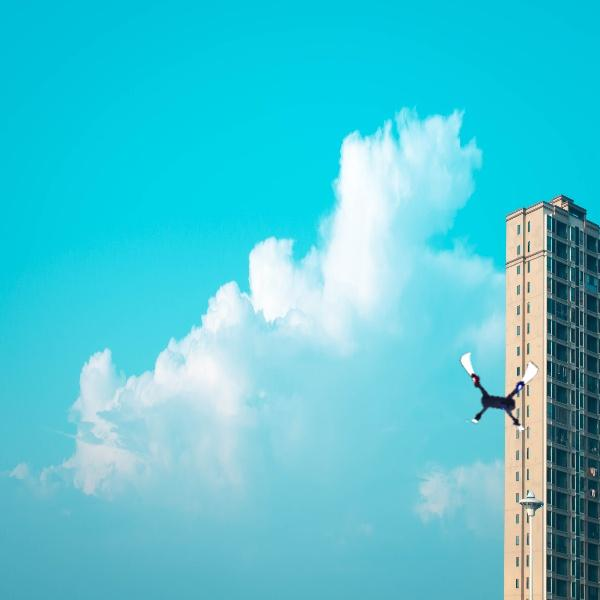drone: (455, 349, 544, 438)
